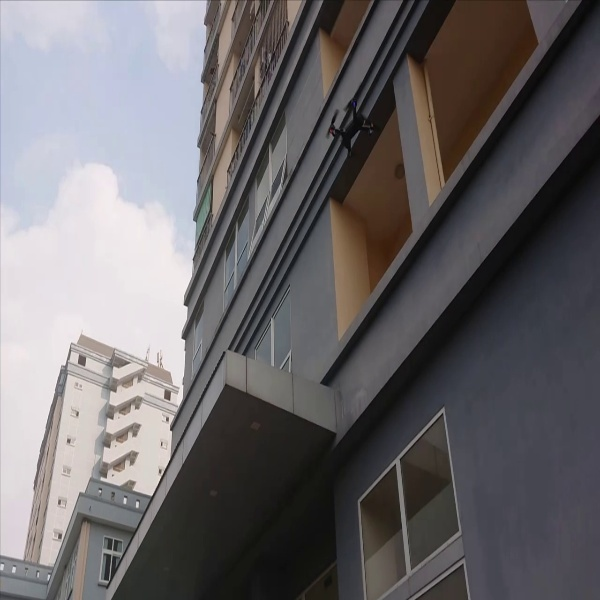drone: (323, 86, 384, 164)
